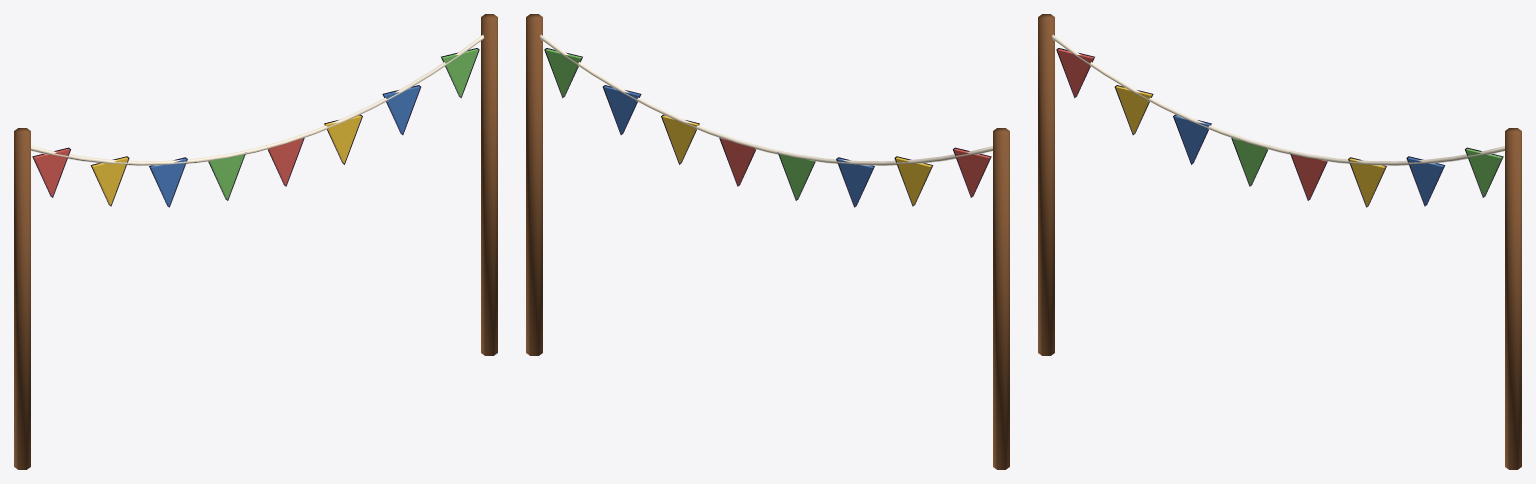
File: deco_bunting.glb
3 renders of one model, left to right at view 1: azimuth 30°, elevation 25°; view 2: azimuth 150°, elevation 25°; view 3: azimuth 330°, elevation 25°, orthographic.
Parts seen in each view (by area): view 1: cyl, cyl.001, string, shape, shape.001, shape.007, shape.006, shape.002, shape.005, shape.003, shape.004; view 2: cyl, cyl.001, string, shape, shape.001, shape.007, shape.006, shape.002, shape.005, shape.003, shape.004; view 3: cyl.001, cyl, string, shape.007, shape.006, shape, shape.001, shape.005, shape.002, shape.004, shape.003.
Part boxes in pixels (bbox=[...]): cyl: bbox=[14, 128, 30, 469]; cyl.001: bbox=[481, 14, 497, 355]; string: bbox=[31, 35, 484, 165]; shape: bbox=[32, 147, 70, 197]; shape.001: bbox=[90, 156, 129, 206]; shape.007: bbox=[441, 48, 479, 98]; shape.006: bbox=[382, 85, 421, 134]; shape.002: bbox=[149, 157, 187, 207]; shape.005: bbox=[324, 114, 362, 164]; shape.003: bbox=[208, 152, 246, 200]; shape.004: bbox=[267, 138, 304, 186]; cyl: bbox=[993, 128, 1009, 469]; cyl.001: bbox=[526, 14, 542, 355]; string: bbox=[539, 35, 992, 165]; shape: bbox=[953, 147, 991, 197]; shape.001: bbox=[894, 156, 933, 206]; shape.007: bbox=[544, 48, 582, 98]; shape.006: bbox=[602, 85, 641, 134]; shape.002: bbox=[836, 157, 874, 207]; shape.005: bbox=[661, 114, 699, 164]; shape.003: bbox=[777, 152, 815, 200]; shape.004: bbox=[719, 138, 756, 186]; cyl.001: bbox=[1505, 128, 1521, 469]; cyl: bbox=[1038, 14, 1054, 355]; string: bbox=[1051, 35, 1504, 165]; shape.007: bbox=[1465, 147, 1503, 197]; shape.006: bbox=[1406, 156, 1445, 206]; shape: bbox=[1056, 48, 1094, 98]; shape.001: bbox=[1114, 85, 1153, 134]; shape.005: bbox=[1348, 157, 1386, 207]; shape.002: bbox=[1173, 114, 1211, 164]; shape.004: bbox=[1289, 152, 1327, 200]; shape.003: bbox=[1231, 138, 1268, 186].
Bounding box in the file's own units: 3.29 × 2.2 × 0.1.
